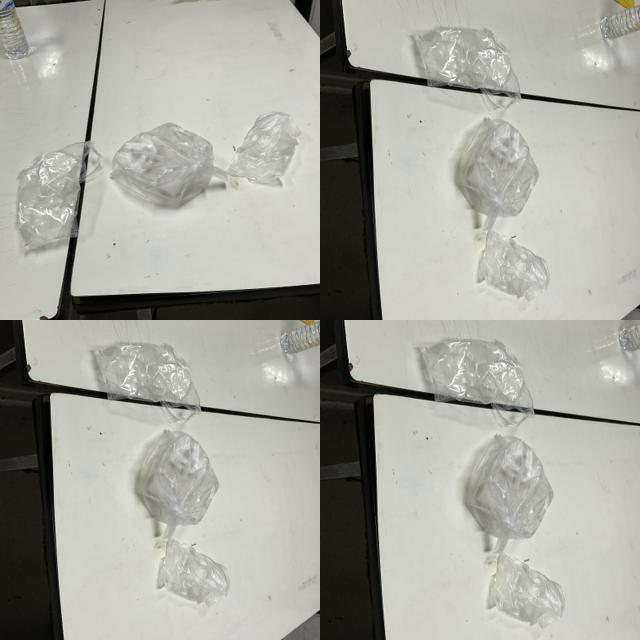Single-layer Plastic: (469, 435, 554, 554), (110, 122, 228, 206), (421, 339, 534, 426), (16, 142, 102, 250), (459, 118, 539, 229), (415, 28, 521, 110), (140, 430, 219, 539), (96, 342, 201, 422), (489, 554, 565, 628), (228, 111, 301, 185), (479, 230, 550, 301), (159, 539, 230, 606)
